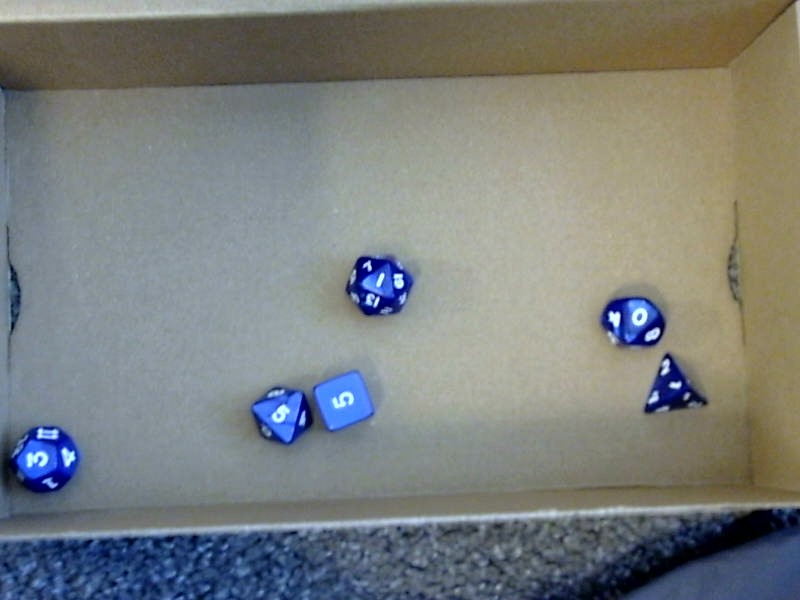d10 10: (598, 292, 672, 351)
d12 3: (7, 418, 90, 497)
d20 1: (341, 246, 415, 319)
d4 1: (644, 352, 708, 417)
d6 5: (309, 363, 383, 435)
d8 5: (249, 373, 305, 451)
